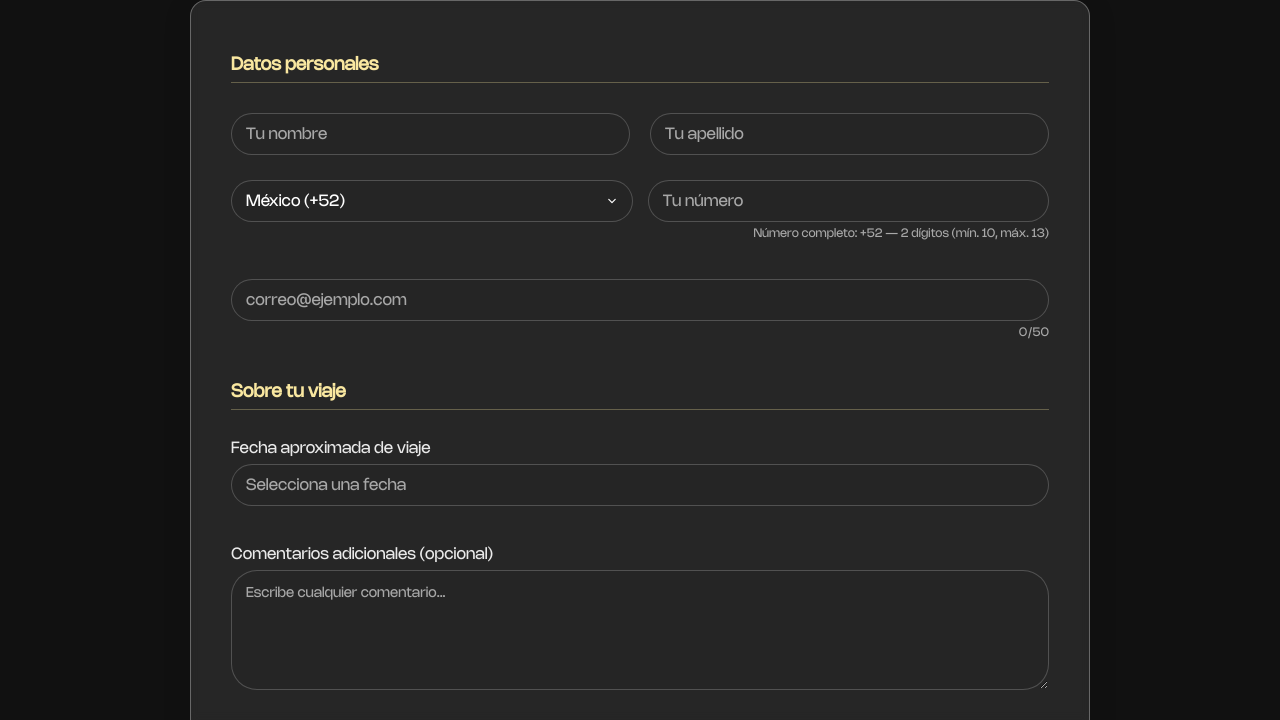
it: Form Component › Form Validation - Phone › should filter out non-digit characters from phone input
Type "555-123-4567" into the field with placeholder "Tu número". click: (848, 201)
box: [648,180,1049,222]
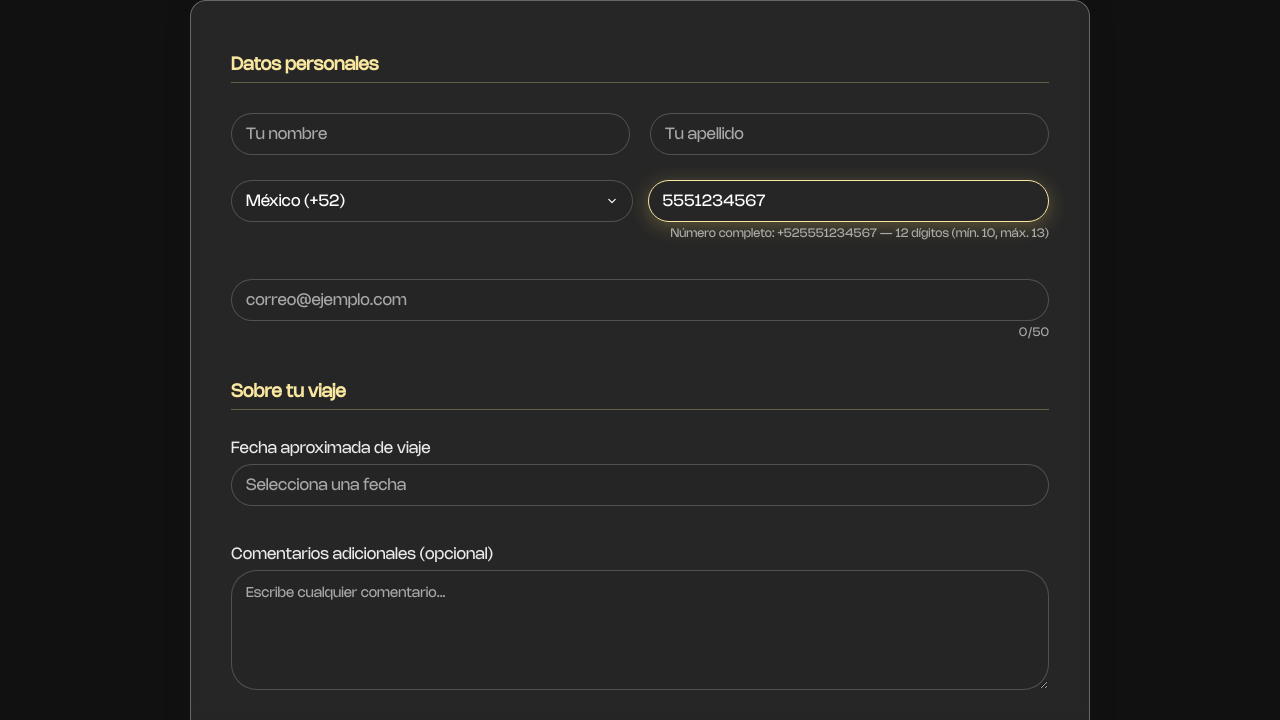
Check: the field with placeholder "Tu número" holds "5551234567", box [648,180,1049,222]
